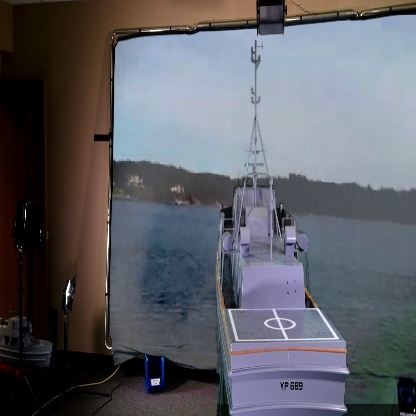YP689: (211, 52, 354, 416)
